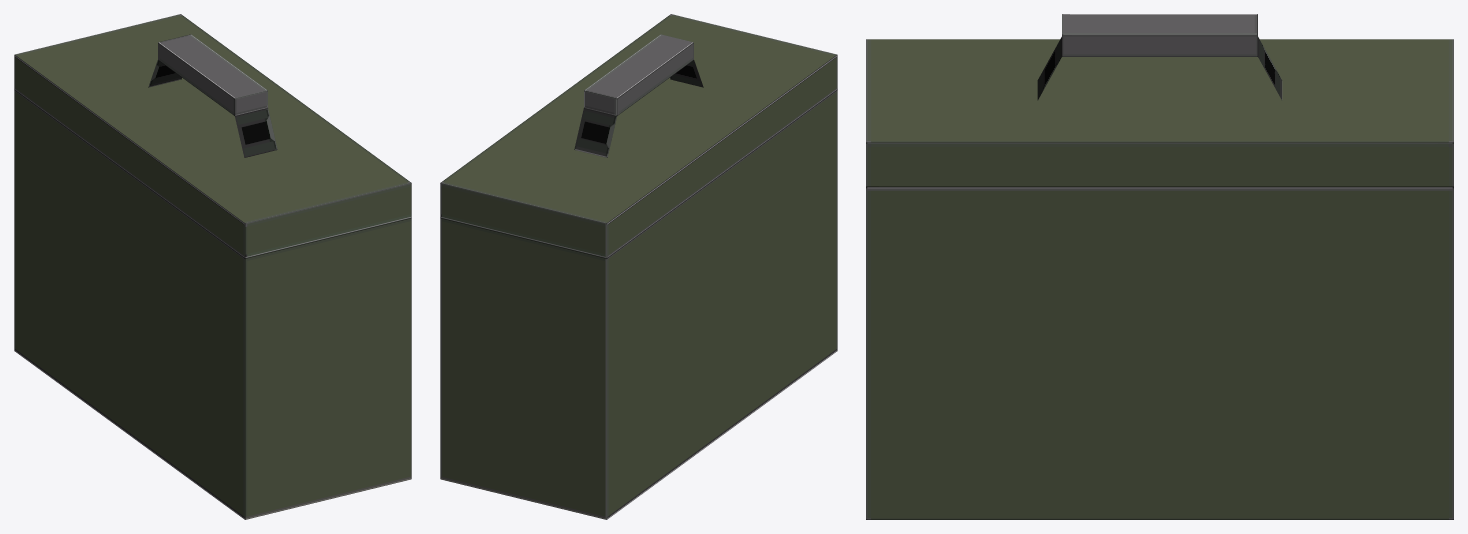
Rendered from ammo_12ga_pickup.glb.
The picture shows the model from 3 angles, left to right: view 1: azimuth 30°, elevation 25°; view 2: azimuth 150°, elevation 25°; view 3: azimuth 270°, elevation 25°; orthographic projection. The views are drawn at different scales.
Visible parts, largest first — view 1: MeshInstance3D; view 2: MeshInstance3D; view 3: MeshInstance3D.
Part boxes in pixels (box(x1,y1,x2,y2)): MeshInstance3D: box(14, 14, 411, 519); MeshInstance3D: box(440, 14, 837, 519); MeshInstance3D: box(866, 14, 1453, 519).
Bounding box in the file's own units: 6.4 × 12.8 × 15.36.
1 material, 1 textured.
